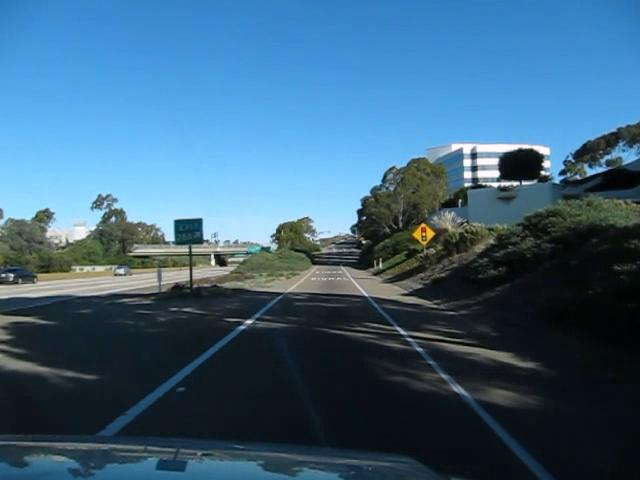signalAhead: (411, 221, 435, 246)
